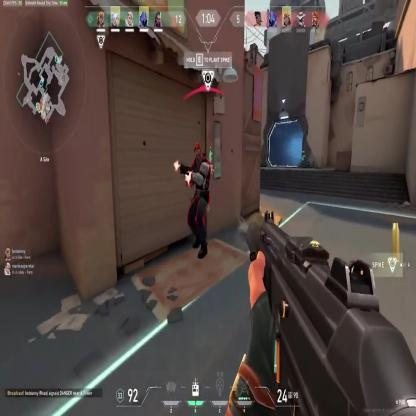enemy: (186, 143, 212, 259)
enemy_head: (193, 143, 202, 163)
